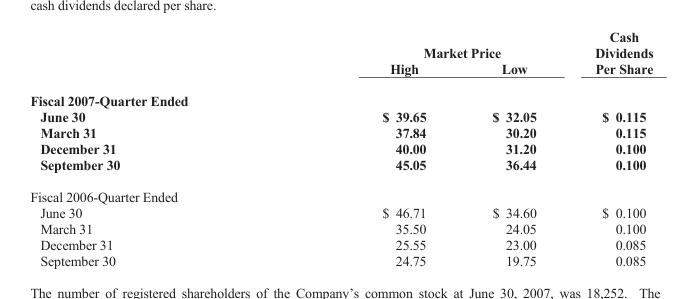table: (29, 28, 652, 268)
table column: (29, 28, 250, 268), (250, 28, 458, 268), (458, 28, 565, 268), (565, 28, 652, 268)
table column header: (29, 28, 652, 84)
table projected row header: (29, 84, 652, 108), (29, 180, 652, 204)
table row: (29, 28, 652, 60), (29, 60, 652, 84), (29, 84, 652, 108), (29, 156, 652, 180), (29, 180, 652, 204), (29, 108, 652, 124), (29, 124, 652, 140), (29, 140, 652, 156), (29, 204, 652, 220), (29, 220, 652, 236), (29, 236, 652, 252), (29, 252, 652, 268)
table spanning cell: (250, 28, 565, 60), (565, 28, 652, 84)
